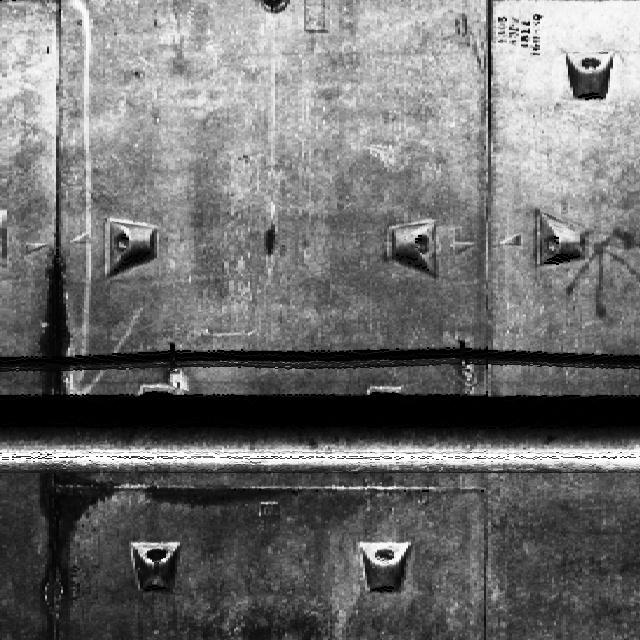leakage: (20, 457, 110, 639), (26, 222, 78, 401), (136, 471, 273, 512)
